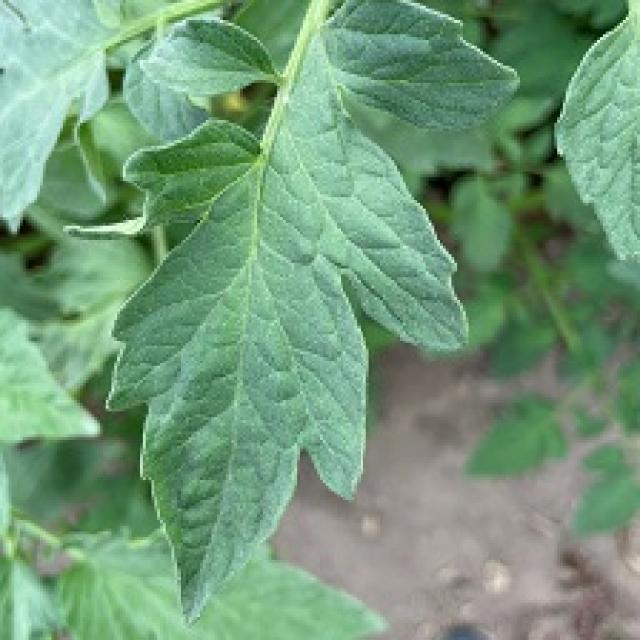Healthy: (0, 0, 591, 640)
